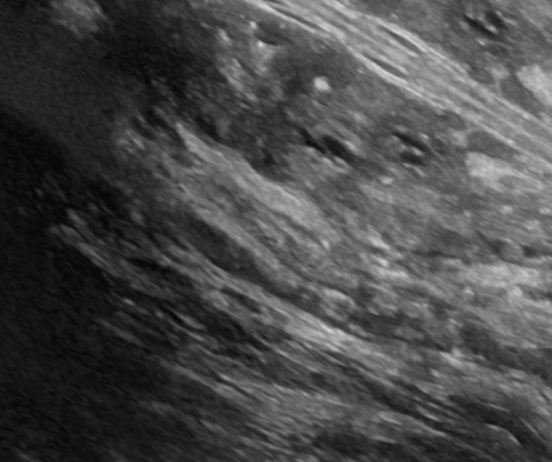Malignant: (167, 1, 358, 172)
